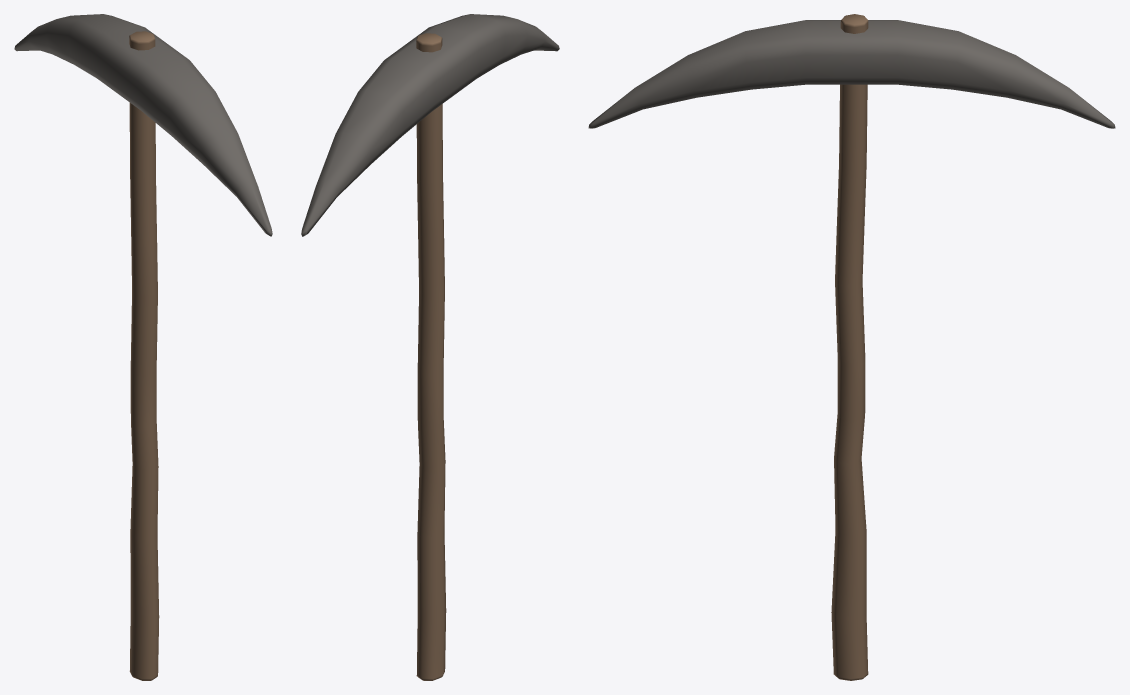
Rendered from pickaxe.fbx.
The picture shows the model from 3 angles, left to right: view 1: azimuth 30°, elevation 25°; view 2: azimuth 150°, elevation 25°; view 3: azimuth 270°, elevation 25°; orthographic projection. The views are drawn at different scales.
Parts seen in each view (by area): view 1: Shaft, PickaxeHead; view 2: Shaft, PickaxeHead; view 3: PickaxeHead, Shaft.
Boxes of the visible parts, x1,y1,x2,y2 form: Shaft: [129, 31, 159, 680]; PickaxeHead: [14, 14, 272, 236]; Shaft: [416, 33, 446, 680]; PickaxeHead: [301, 14, 559, 236]; PickaxeHead: [588, 20, 1115, 128]; Shaft: [831, 14, 868, 680].
Bounding box in the file's own units: 7.07 × 78.58 × 57.18.
